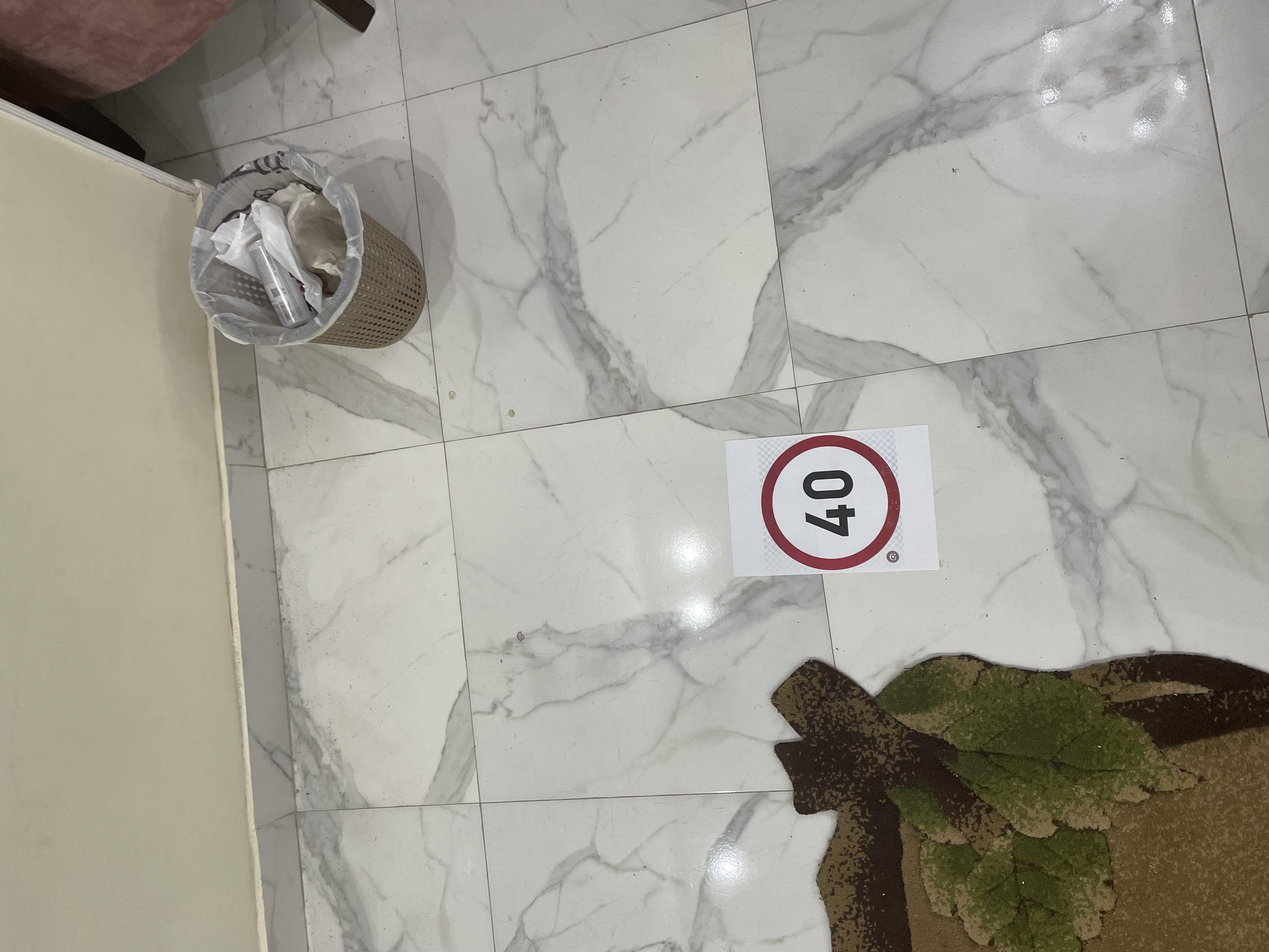40-Speed: (500, 564, 702, 680)
